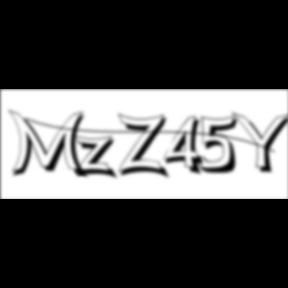4: (164, 115, 210, 179)
5: (198, 114, 244, 176)
M: (8, 108, 92, 181)
Z: (118, 112, 174, 181)
z: (73, 134, 122, 182)
